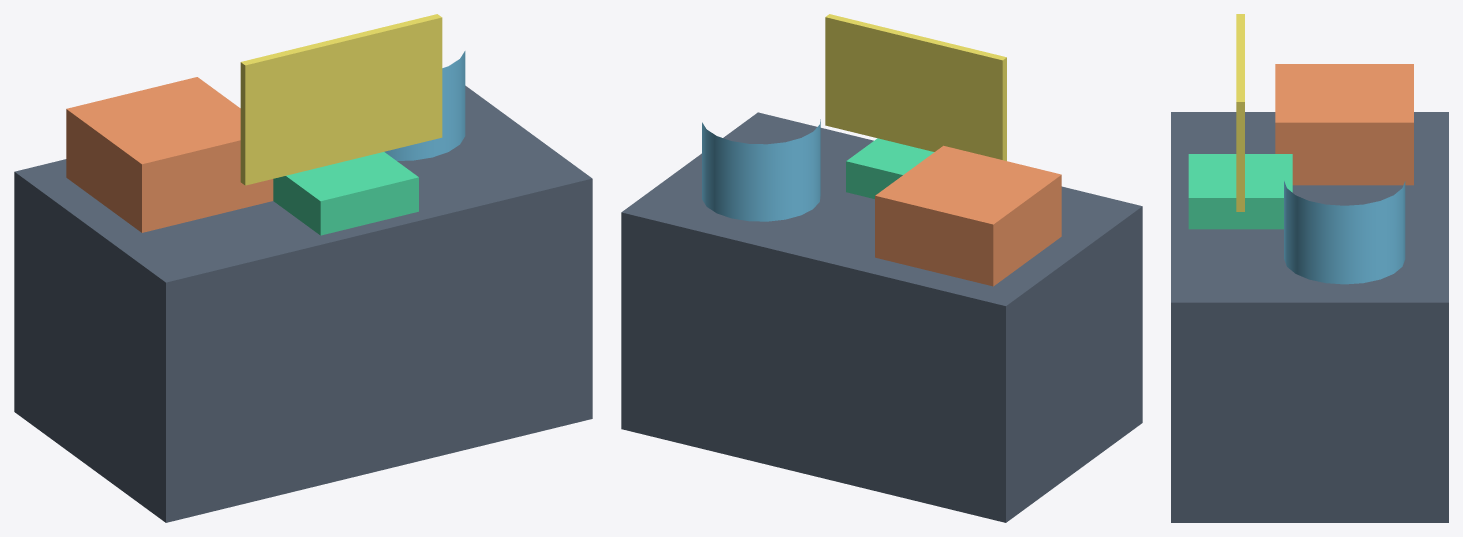
File: advanced_java.glb
3 views of the same model, side by side, from view 1: azimuth 30°, elevation 25°; view 2: azimuth 150°, elevation 25°; view 3: azimuth 270°, elevation 25° (orthographic). The views are drawn at different scales.
Parts seen in each view (by area): view 1: J2EEAppServerHost, JSPViewTemplateScreen, ServletContainerEngine, MVCControllerNode, JDBCConnectionPoolTower; view 2: J2EEAppServerHost, JSPViewTemplateScreen, ServletContainerEngine, JDBCConnectionPoolTower, MVCControllerNode; view 3: J2EEAppServerHost, ServletContainerEngine, JDBCConnectionPoolTower, MVCControllerNode, JSPViewTemplateScreen.
Part boxes in pixels (left/top/right/bottom): J2EEAppServerHost: left=14, top=85, right=592, bottom=522; JSPViewTemplateScreen: left=240, top=14, right=442, bottom=185; ServletContainerEngine: left=66, top=77, right=273, bottom=232; MVCControllerNode: left=273, top=152, right=418, bottom=235; JDBCConnectionPoolTower: left=384, top=51, right=465, bottom=160; J2EEAppServerHost: left=621, top=112, right=1142, bottom=522; JSPViewTemplateScreen: left=825, top=14, right=1006, bottom=160; ServletContainerEngine: left=875, top=145, right=1061, bottom=286; JDBCConnectionPoolTower: left=702, top=119, right=820, bottom=221; MVCControllerNode: left=846, top=138, right=934, bottom=198; J2EEAppServerHost: left=1171, top=112, right=1448, bottom=522; ServletContainerEngine: left=1275, top=64, right=1413, bottom=185; JDBCConnectionPoolTower: left=1284, top=181, right=1405, bottom=284; MVCControllerNode: left=1188, top=154, right=1292, bottom=229; JSPViewTemplateScreen: left=1236, top=14, right=1244, bottom=211.
Size of the model in its own units: 2.6 by 2.35 by 1.6.
